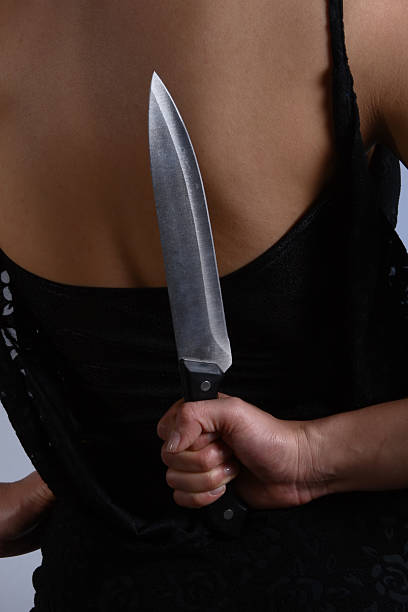knife: (144, 65, 238, 401)
